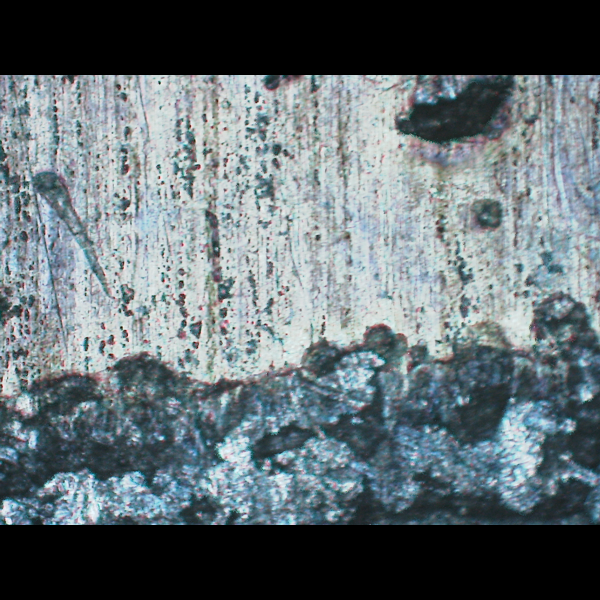d: (0, 280, 597, 524), (384, 75, 550, 156)
